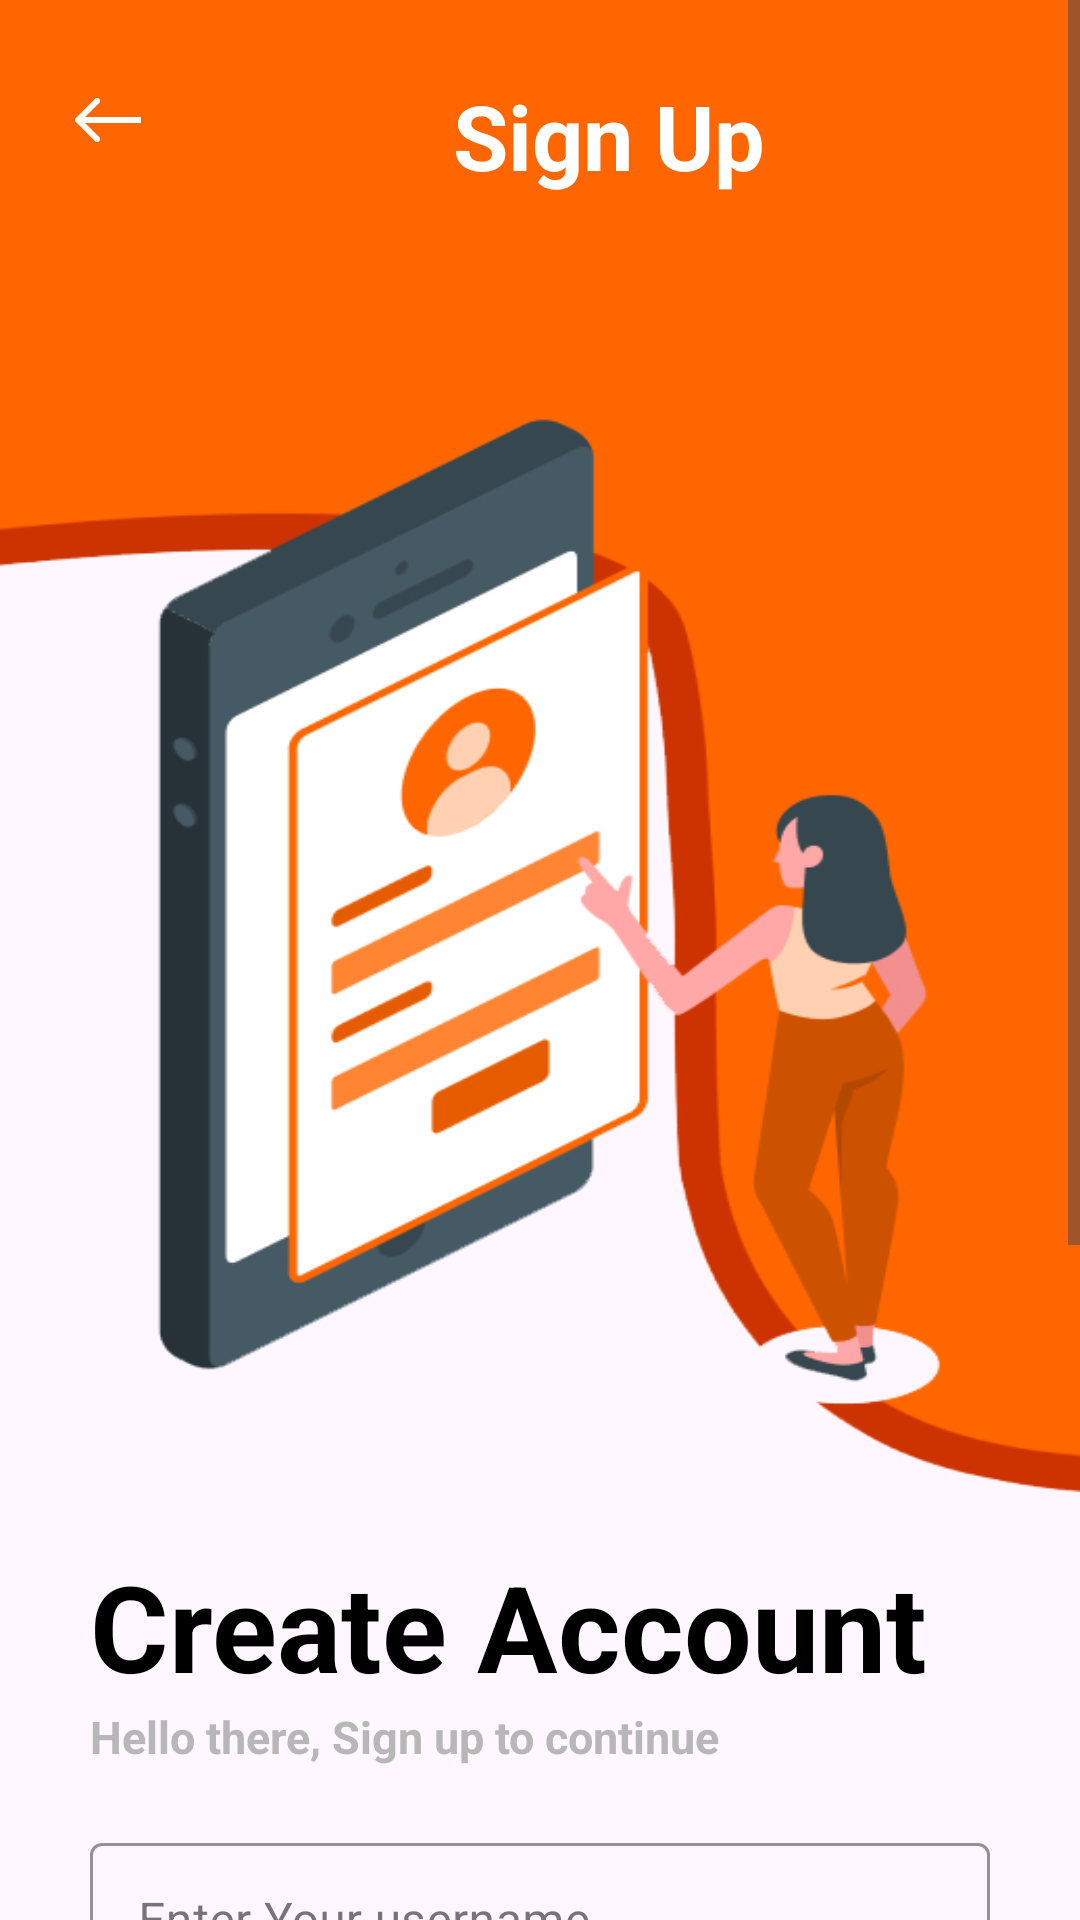

Screen size 1080 × 1920. Icon name, then its box in pixels as bbox=(x1, y1, x2, y2):
arrowback: bbox=(75, 98, 141, 142)
